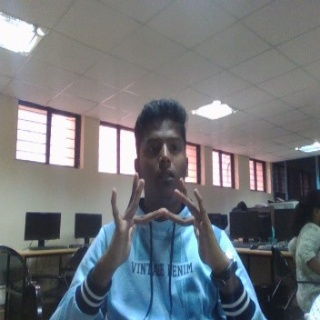Internet: (103, 172, 228, 273)
